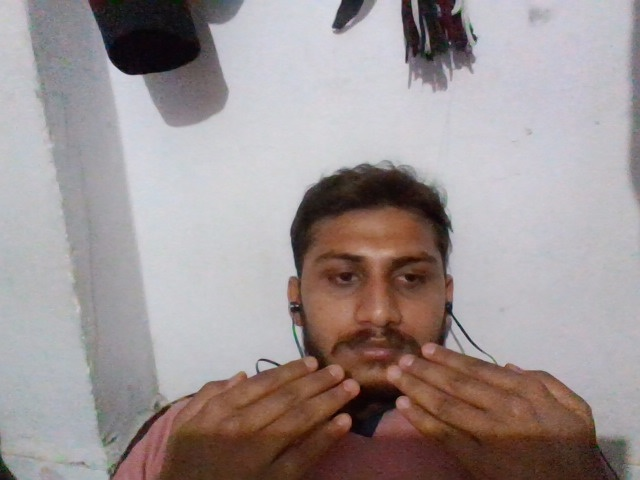Thanks: (152, 336, 624, 480)
